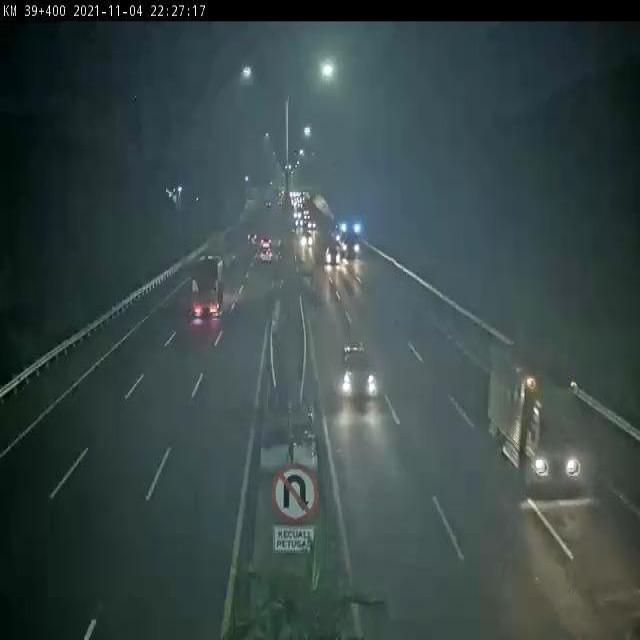car: (339, 341, 378, 403), (259, 245, 275, 264)
truck-m-: (487, 336, 585, 496), (191, 261, 221, 316)
